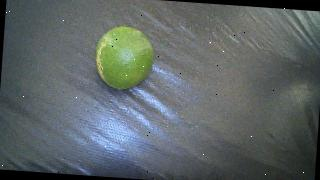DESECHO: (93, 24, 155, 91)
